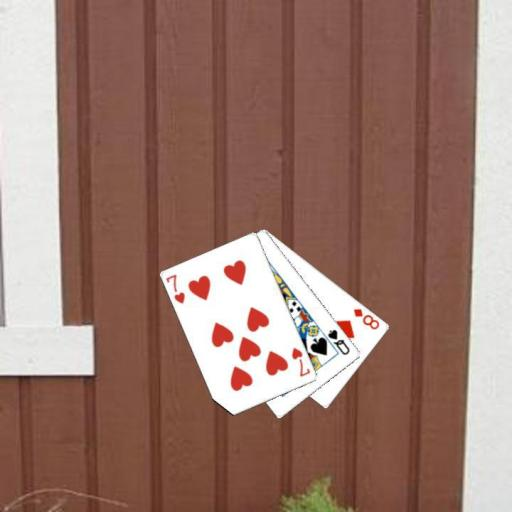7H: (163, 271, 187, 305), (289, 344, 312, 378)
8D: (351, 305, 381, 331)
QS: (325, 327, 351, 357)
